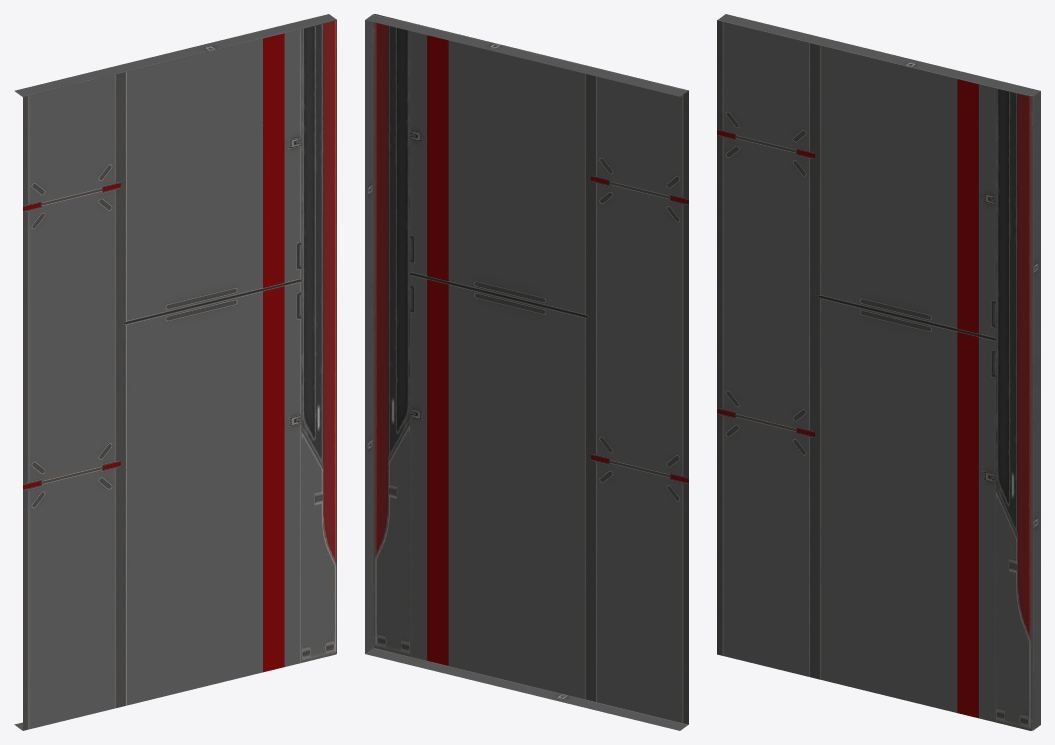
Rendered from door_metal.gltf.
3 renders of one model, left to right at view 1: azimuth 30°, elevation 25°; view 2: azimuth 150°, elevation 25°; view 3: azimuth 330°, elevation 25°, orthographic.
Parts seen in each view (by area): view 1: Door_Metal; view 2: Door_Metal; view 3: Door_Metal.
Part boxes in pixels (x1,y1,x2,y2): Door_Metal: (14, 14, 336, 730); Door_Metal: (365, 14, 688, 730); Door_Metal: (717, 14, 1040, 730).
Size of the model in its own units: 2.11 by 4.05 by 0.1016.
2 materials, 2 textured.
